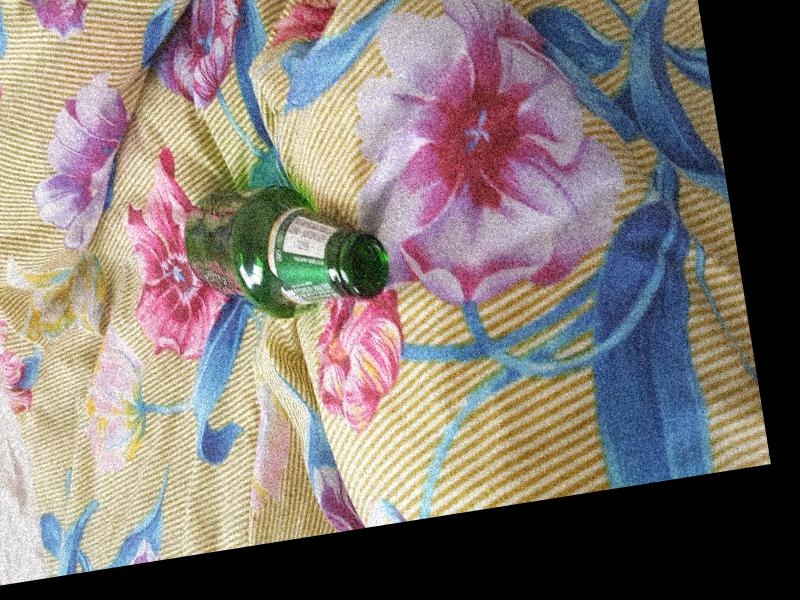Beer: (179, 174, 394, 331)
